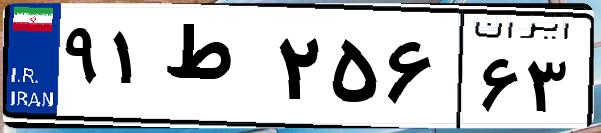1: (110, 28, 158, 98)
2: (270, 28, 330, 110)
3: (525, 38, 570, 115)
5: (330, 28, 385, 110)
6: (385, 28, 445, 110), (475, 38, 525, 113)
9: (57, 26, 110, 100)
ط: (158, 20, 270, 120)
